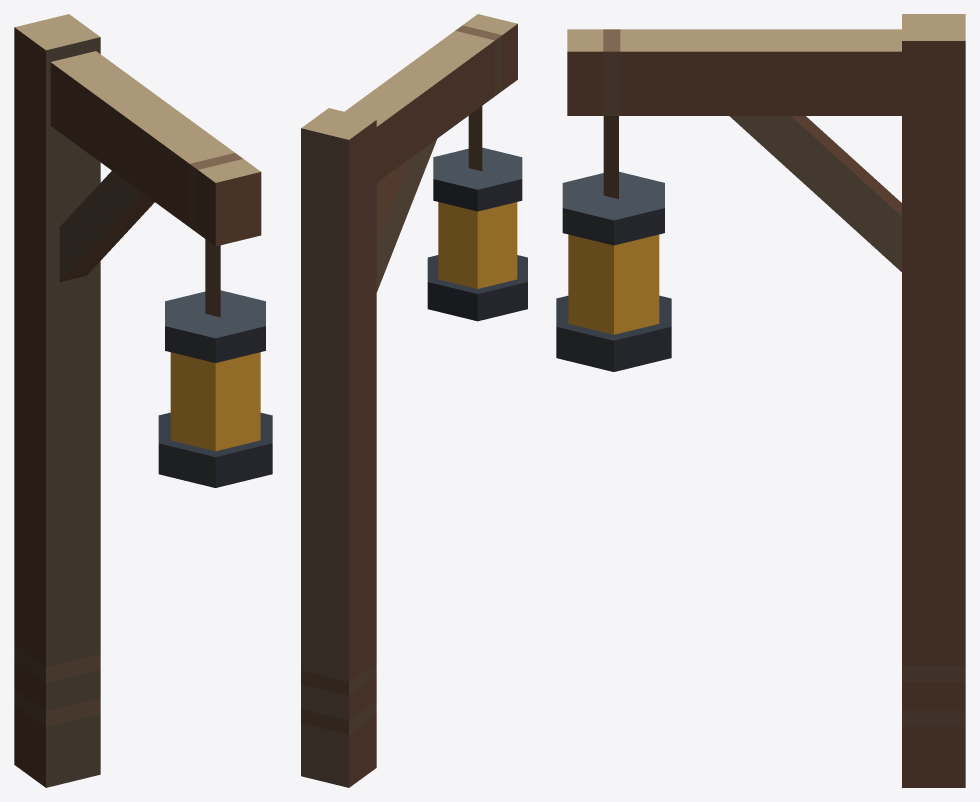
Rendered from TB_D_Prop_Light_B.FBX.
The picture shows the model from 3 angles, left to right: view 1: azimuth 30°, elevation 25°; view 2: azimuth 150°, elevation 25°; view 3: azimuth 270°, elevation 25°; orthographic projection. The views are drawn at different scales.
Visible parts, largest first — view 1: TB_D_Prop_Light_B; view 2: TB_D_Prop_Light_B; view 3: TB_D_Prop_Light_B.
Part boxes in pixels (<box>): TB_D_Prop_Light_B: <box>14,14,272,787</box>; TB_D_Prop_Light_B: <box>301,14,527,787</box>; TB_D_Prop_Light_B: <box>556,14,965,787</box>.
Size of the model in its own units: 0.5455 by 3.37 by 1.68.
